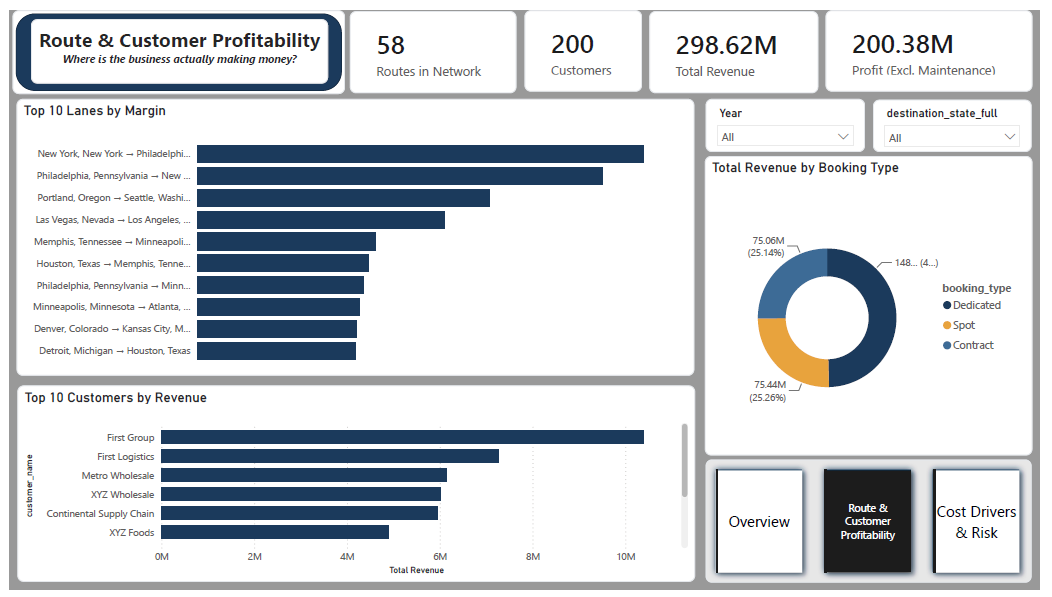

The page's visual inventory and layout, read from the dashboard file:
{"tool":"powerbi","page":{"name":"Route & Customer Profitability","canvas":[1280,720],"ordinal":1},"visuals":[{"type":"cardVisual","fields":{"Data":["_Measures.Routes in Network"]},"box":[422.5,1.2,207.4,101.3],"z":0},{"type":"cardVisual","fields":{"Data":["_Measures.Total Revenue"]},"box":[795,1.2,210,101.2],"z":1000},{"type":"cardVisual","fields":{"Data":["_Measures.Profit (Excl. Maintenance)"]},"box":[1013.8,0,257.5,101.2],"z":2000},{"type":"cardVisual","fields":{"Data":["_Measures.Customers"]},"box":[640,0,146.4,101.3],"z":3000},{"type":"barChart","title":"Top 10 Lanes by Margin","fields":{"Category":["routes.Lane"],"Y":["_Measures.Lane Margin"]},"box":[8.6,110,842.5,343.8],"z":4000},{"type":"clusteredBarChart","title":"Top 10 Customers by Revenue","fields":{"Category":["customers.customer_name"],"Y":["_Measures.Total Revenue"]},"box":[9.9,466.4,842,243.8],"z":5000},{"type":"donutChart","title":"Total Revenue by Booking Type","fields":{"Category":["loads.booking_type"],"Y":["_Measures.Total Revenue"]},"box":[863.8,181.2,407.5,371.2],"z":6000},{"type":"slicer","fields":{"Values":["routes.destination_state_full"]},"box":[1072.5,111.2,197.5,65],"z":7000},{"type":"shape","box":[4.3,0,412.9,104.3],"z":7500},{"type":"slicer","fields":{"Values":["Date.Year"]},"box":[865,110,197.5,66.2],"z":8000},{"type":"pageNavigator","box":[865,557.5,405,153.8],"z":9000},{"type":"textbox","box":[27.1,11.4,368.6,80],"z":11000}]}

Visuals, with their boxes in screenshot pixels (x1, y1, x2, y2), scaled from the page's 1280x720 canvas onto the 1052x597 screenshot:
cardVisual - _Measures.Routes in Network: crop(347, 1, 518, 85)
cardVisual - _Measures.Total Revenue: crop(653, 1, 826, 85)
cardVisual - _Measures.Profit (Excl. Maintenance): crop(833, 0, 1045, 84)
cardVisual - _Measures.Customers: crop(526, 0, 646, 84)
"Top 10 Lanes by Margin" barChart: crop(7, 91, 699, 376)
"Top 10 Customers by Revenue" clusteredBarChart: crop(8, 387, 700, 589)
"Total Revenue by Booking Type" donutChart: crop(710, 150, 1045, 458)
slicer - routes.destination_state_full: crop(881, 92, 1044, 146)
shape: crop(4, 0, 343, 86)
slicer - Date.Year: crop(711, 91, 873, 146)
pageNavigator: crop(711, 462, 1044, 590)
textbox: crop(22, 9, 325, 76)
